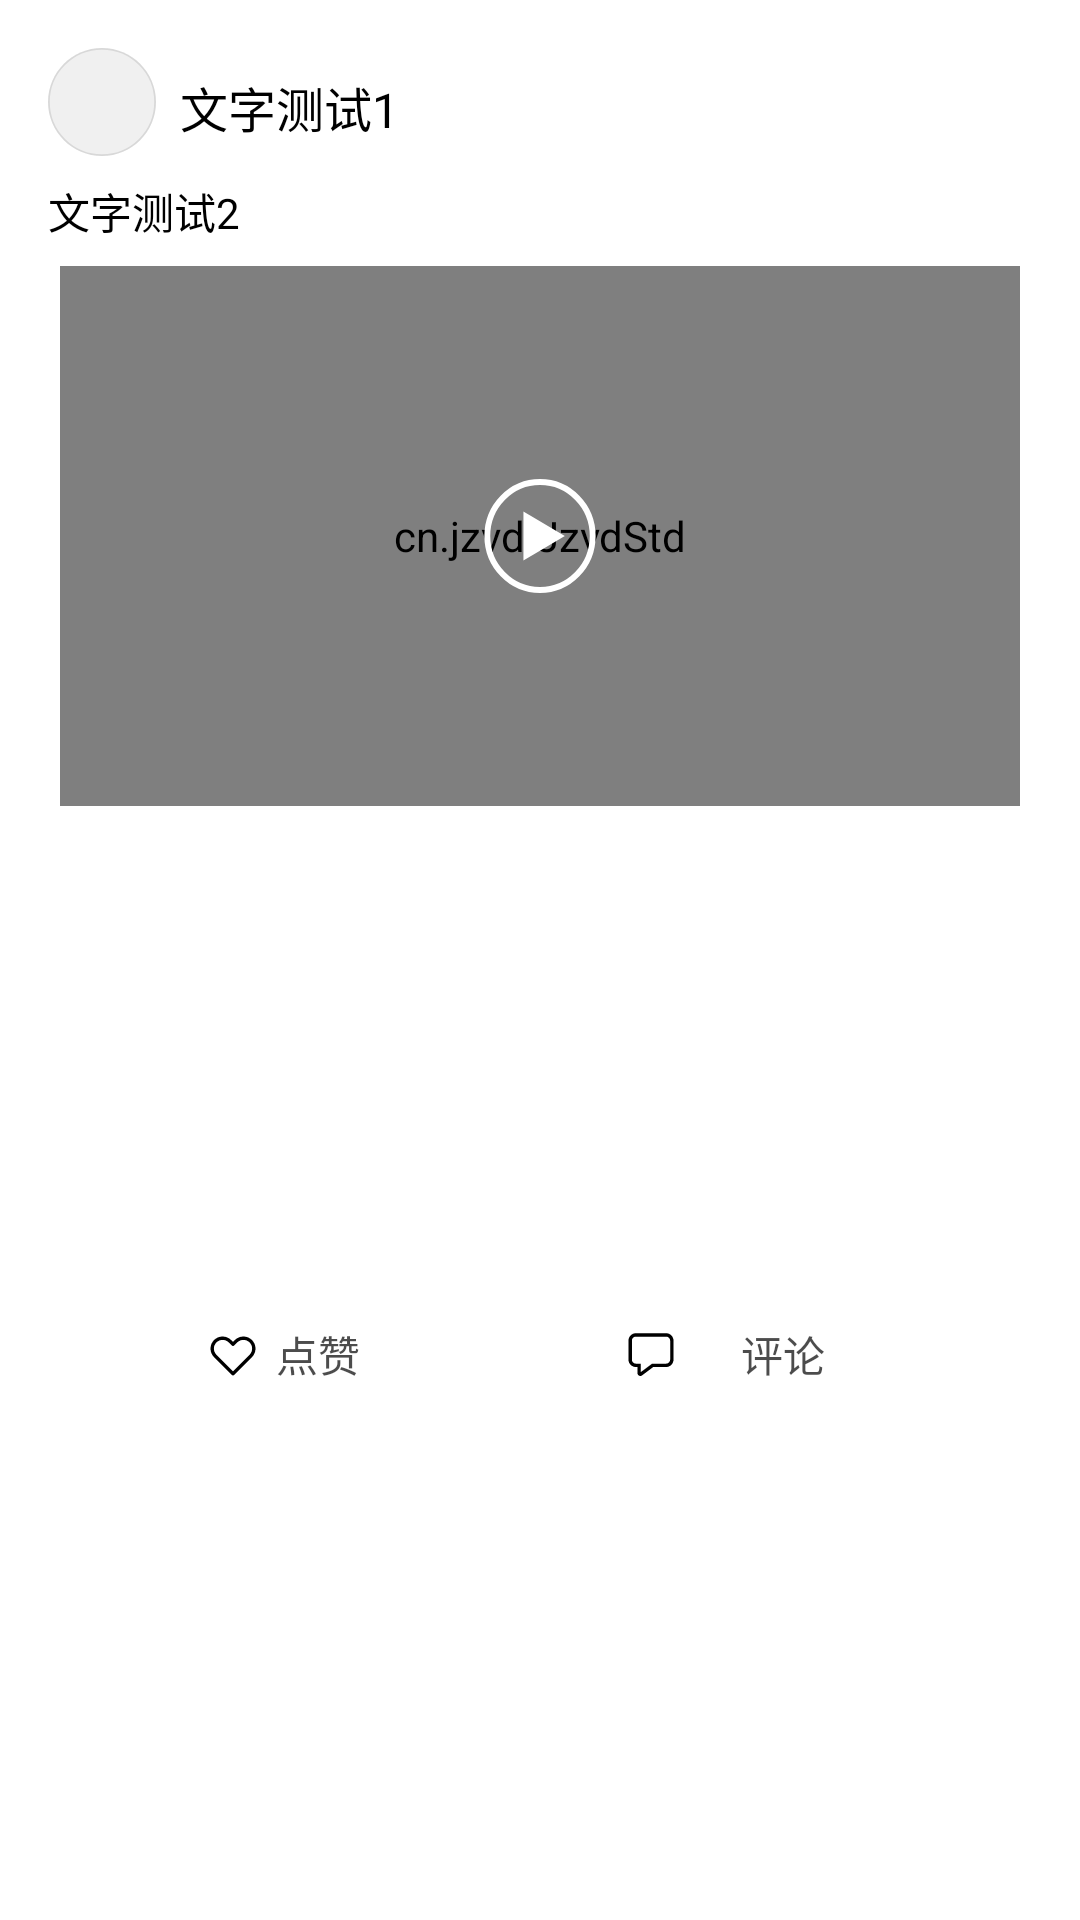

Icons on this 1080px x 1920px Android screen, each with the point to tap as point (x, y):
card heart: point (233, 1356)
